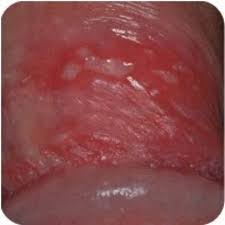herpes: (43, 37, 167, 88)
